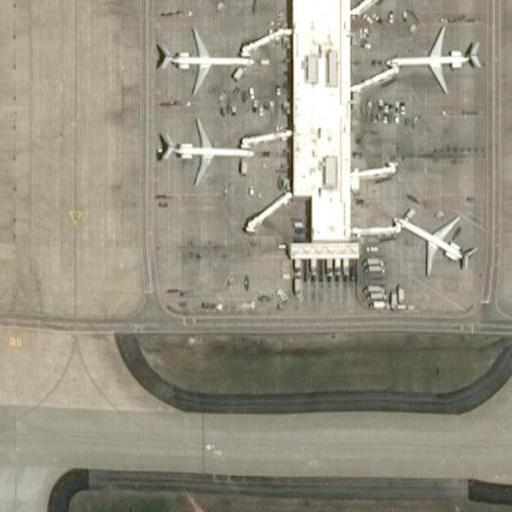Aircraft: (142, 111, 289, 189), (152, 23, 259, 92), (385, 26, 484, 95), (389, 207, 471, 270)
